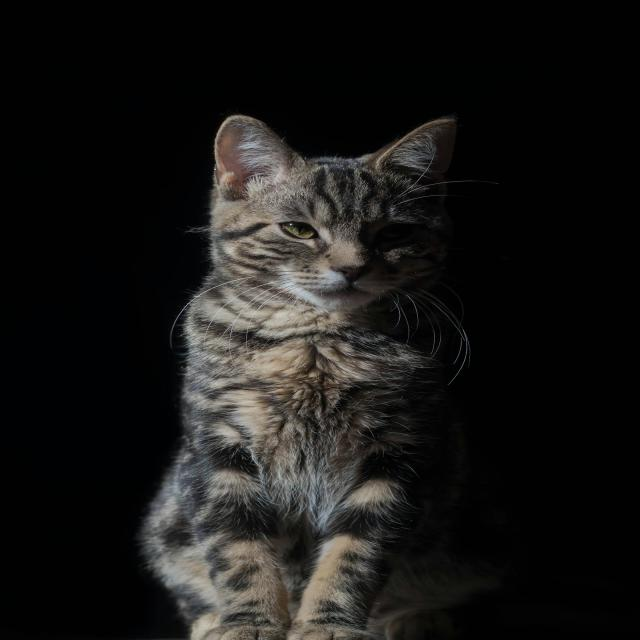Cat: (137, 112, 485, 638)
